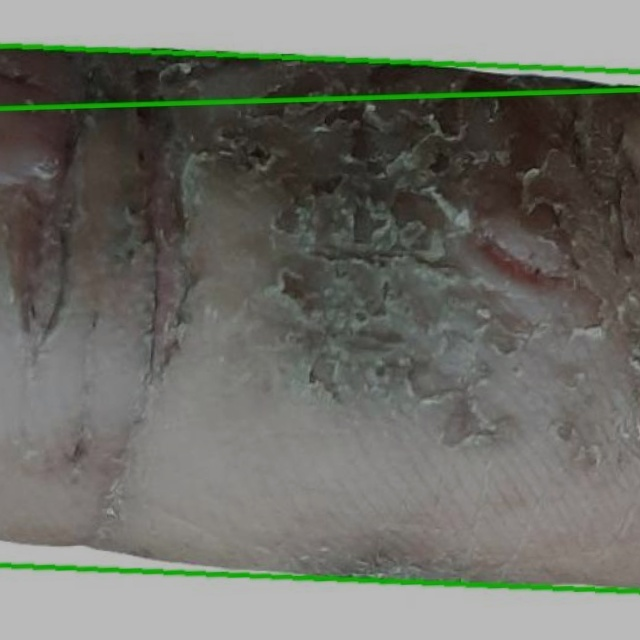Eczema: (0, 45, 639, 590)
